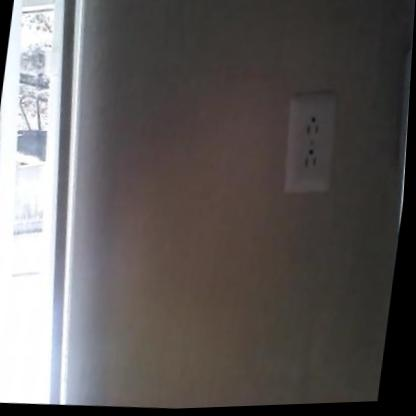OUTLET: (276, 88, 344, 196)
